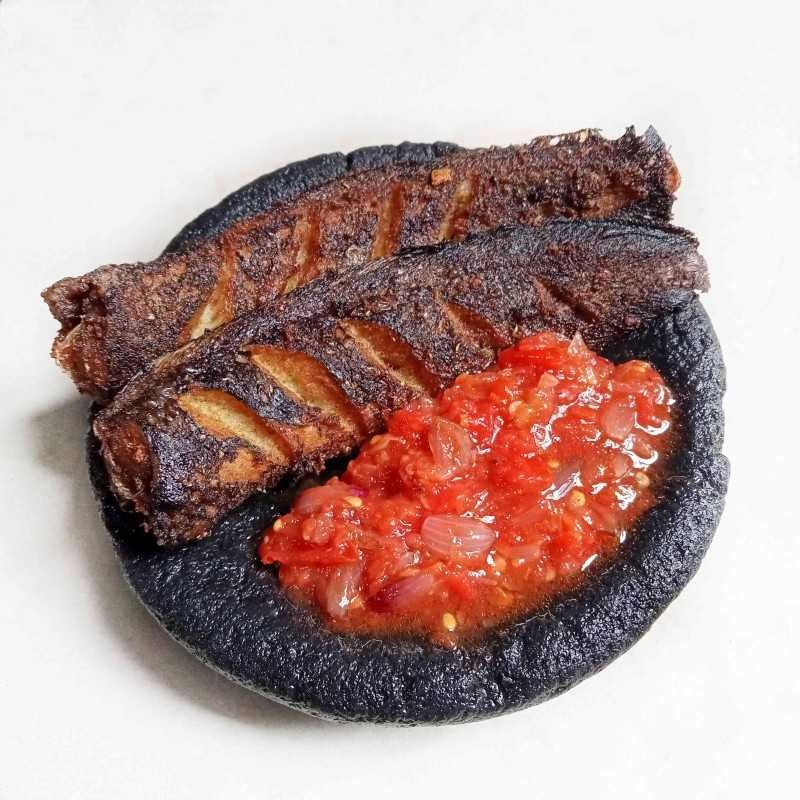pecel_lele: (12, 132, 705, 339)
